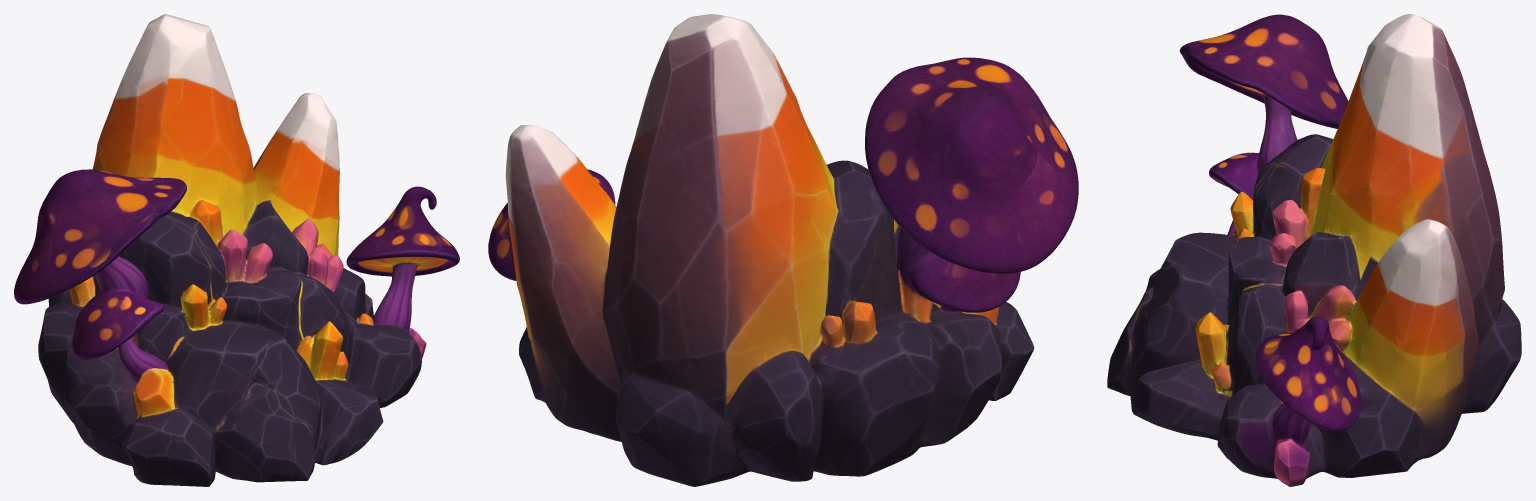
File: Chaseween_Crystal_Mushrooms.glb
The picture shows the model from 3 angles, left to right: view 1: azimuth 30°, elevation 25°; view 2: azimuth 150°, elevation 25°; view 3: azimuth 270°, elevation 25°; orthographic projection. The views are drawn at different scales.
Visible parts, largest first — view 1: Mesh_0; view 2: Mesh_0; view 3: Mesh_0.
Boxes of the visible parts, left/top/right/bottom form: Mesh_0: left=14, top=14, right=459, bottom=486; Mesh_0: left=488, top=14, right=1078, bottom=486; Mesh_0: left=1107, top=14, right=1521, bottom=486.
Size of the model in its own units: 1.9 by 1.44 by 1.44.
Materials: 1 (1 with a texture image).
